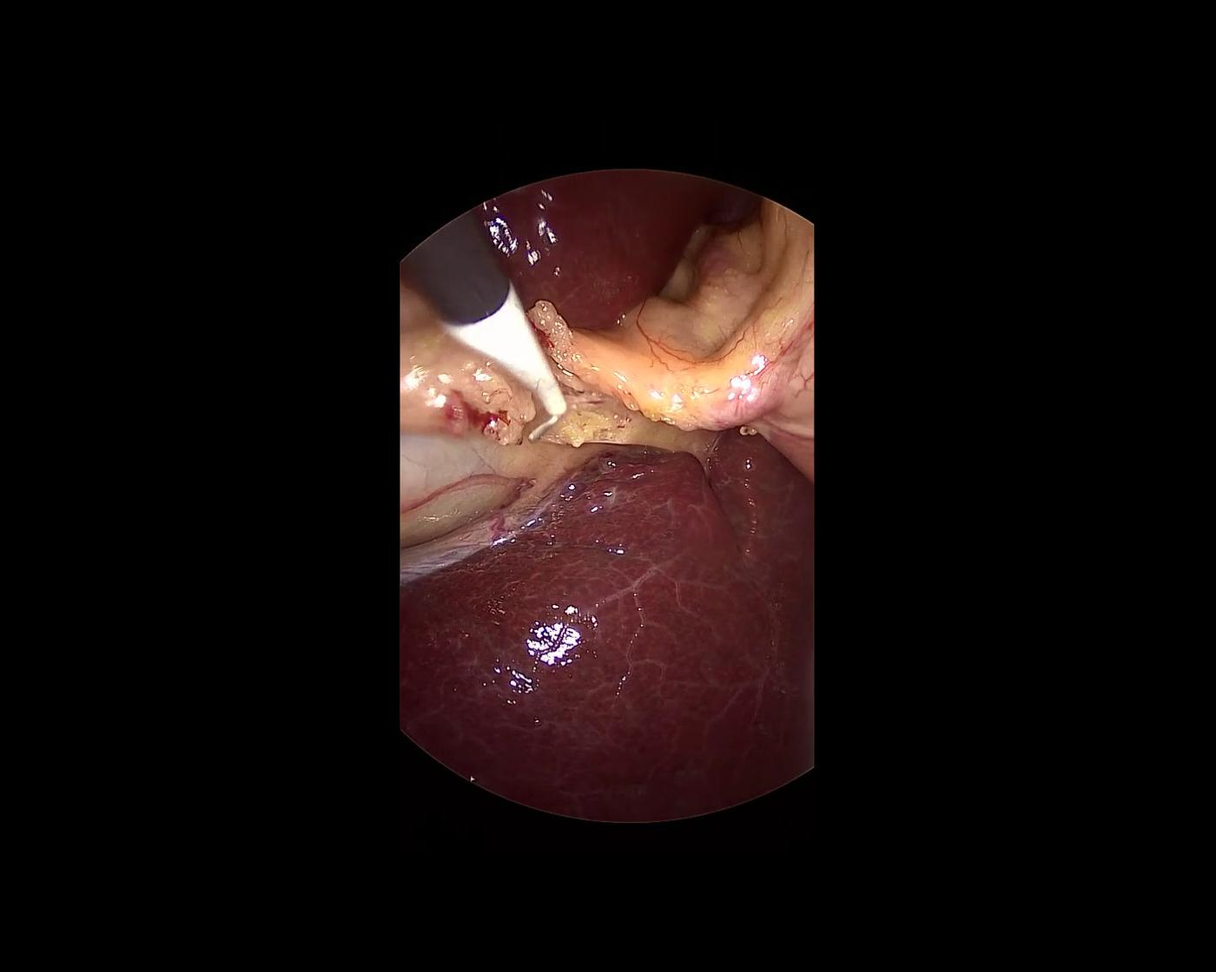Cautery: (390, 209, 586, 458)
Gallbladder: (401, 277, 567, 550)
Liver: (398, 432, 815, 821), (480, 157, 734, 341)
